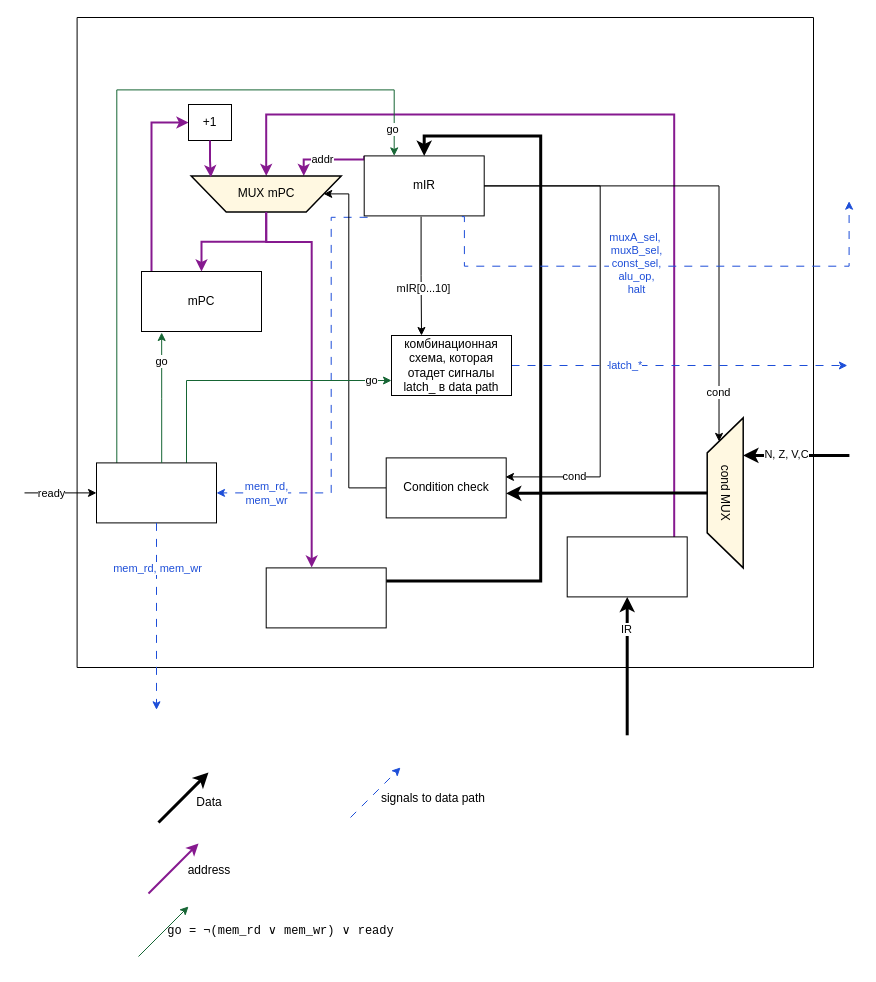
This 876x982 diagram has some shape labels left out. Here are the shapes that lost their labels. From the top down, the box of each, then its label:
(96, 462, 216, 523): Stall
(566, 536, 687, 597): Insrtuction Decoder
(265, 567, 386, 628): microcommands mem
